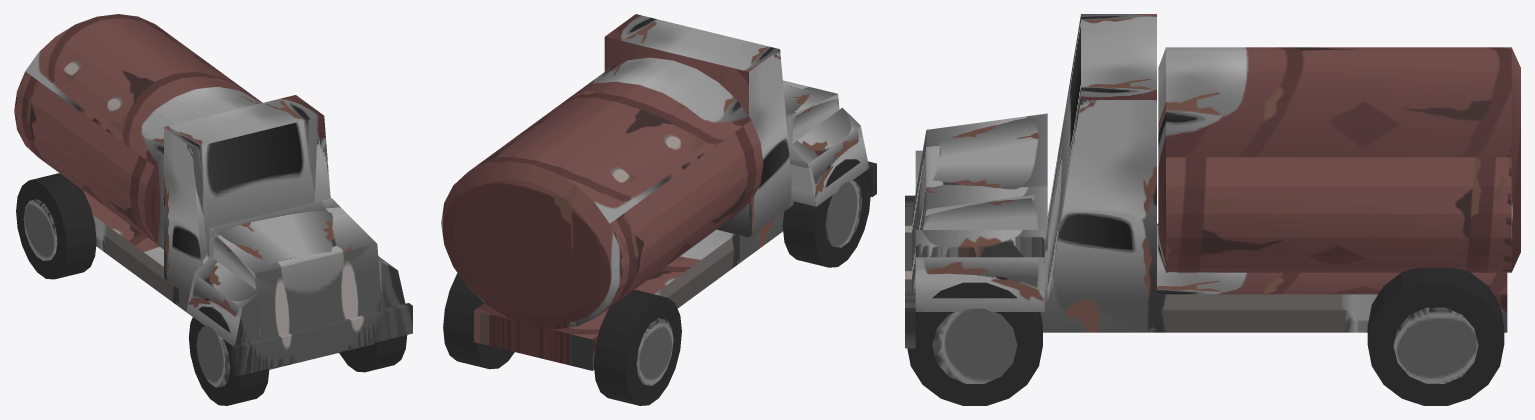
Rendered from Building_AncientChemtruck.glb.
3 renders of one model, left to right at view 1: azimuth 30°, elevation 25°; view 2: azimuth 150°, elevation 25°; view 3: azimuth 270°, elevation 25°, orthographic. The views are drawn at different scales.
Parts seen in each view (by area): view 1: AncientChemtruck; view 2: AncientChemtruck; view 3: AncientChemtruck.
Part boxes in pixels (x1,y1,x2,y2): AncientChemtruck: [14, 14, 412, 405]; AncientChemtruck: [441, 14, 876, 405]; AncientChemtruck: [905, 14, 1520, 405].
Size of the model in its own units: 1.8 by 2.14 by 4.06.
1 material, 1 textured.
